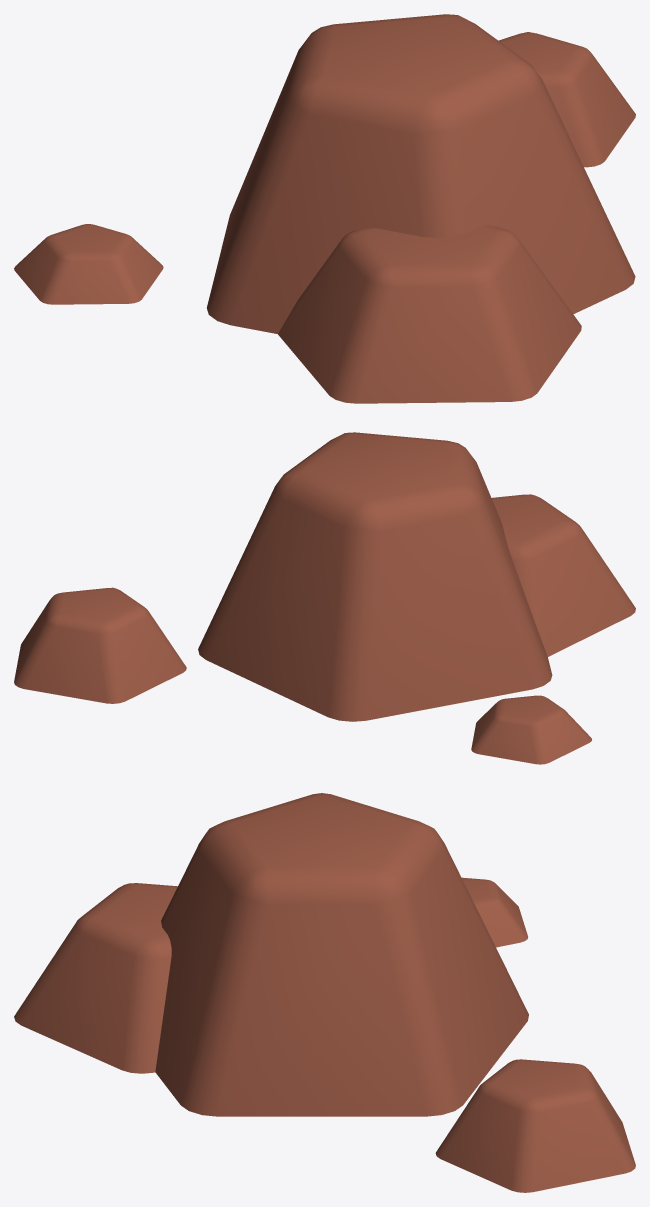
Rendered from rocksB_desert.glb.
3 renders of one model, top to bottom at view 1: azimuth 30°, elevation 25°; view 2: azimuth 150°, elevation 25°; view 3: azimuth 270°, elevation 25°, orthographic. The views are drawn at different scales.
Parts seen in each view (by area): view 1: rocksB_desert; view 2: rocksB_desert; view 3: rocksB_desert.
Boxes of the visible parts, x1,y1,x2,y2 form: rocksB_desert: (14,14,635,403); rocksB_desert: (14,432,635,764); rocksB_desert: (14,793,635,1192).
Size of the model in its own units: 1.56 by 0.5 by 1.38.
